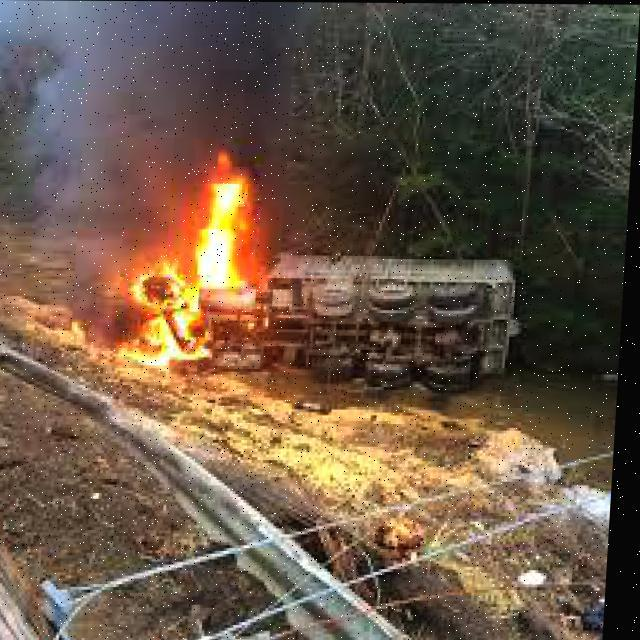Fire: (108, 146, 304, 378)
